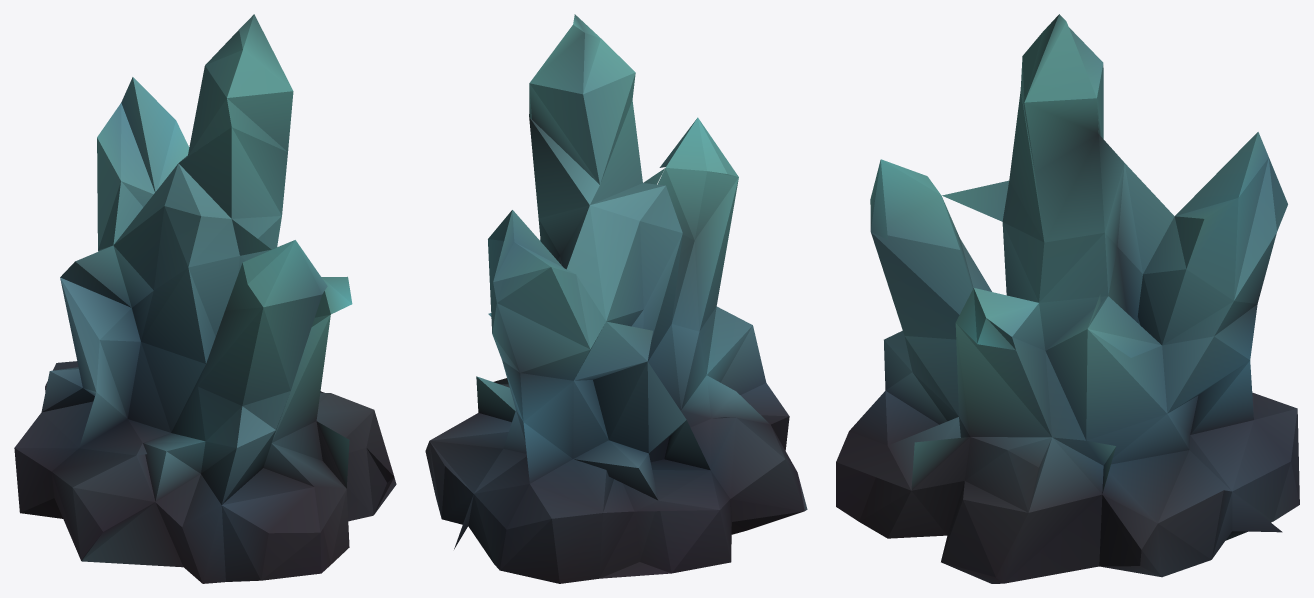
File: crystals.glb
The picture shows the model from 3 angles, left to right: view 1: azimuth 30°, elevation 25°; view 2: azimuth 150°, elevation 25°; view 3: azimuth 270°, elevation 25°; orthographic projection. The views are drawn at different scales.
Parts seen in each view (by area): view 1: crystals-far; view 2: crystals-far; view 3: crystals-far.
Boxes of the visible parts, <box> form: crystals-far: <box>14,14,396,583</box>; crystals-far: <box>425,14,807,583</box>; crystals-far: <box>836,14,1299,583</box>.
Bounding box in the file's own units: 0.6927 × 0.9999 × 0.8139.
